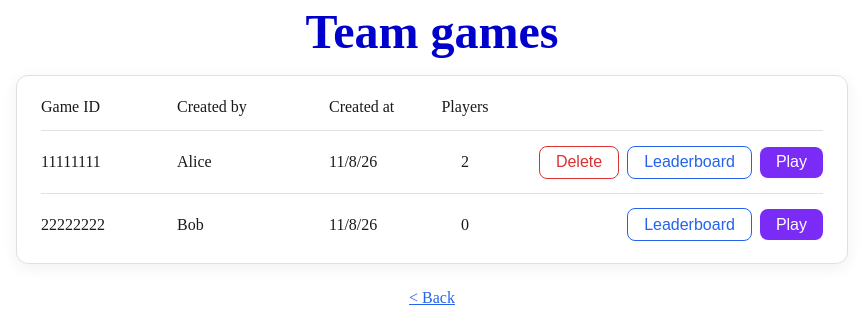
Test: deletes an owned game and removes it from the list
This screenshot has width=865, height=322.
Expected: the text "11111111" is shown, [41,153,101,170]
Click the button with aria-label "Delete game 11111111": (579, 162) [539,146,619,178]
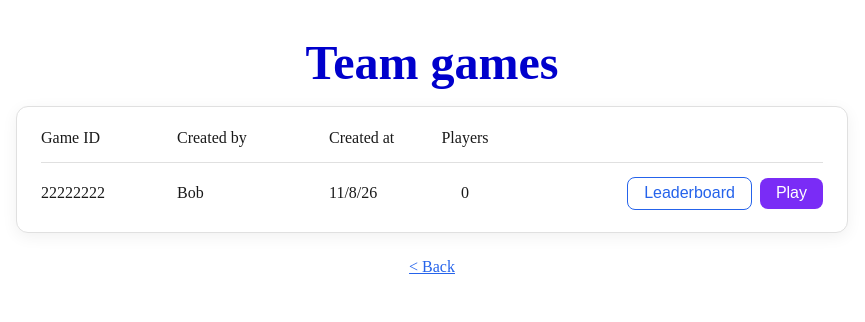
Expected: the text "22222222" is shown, [41,184,105,201]
Now the text "11111111" is gone
